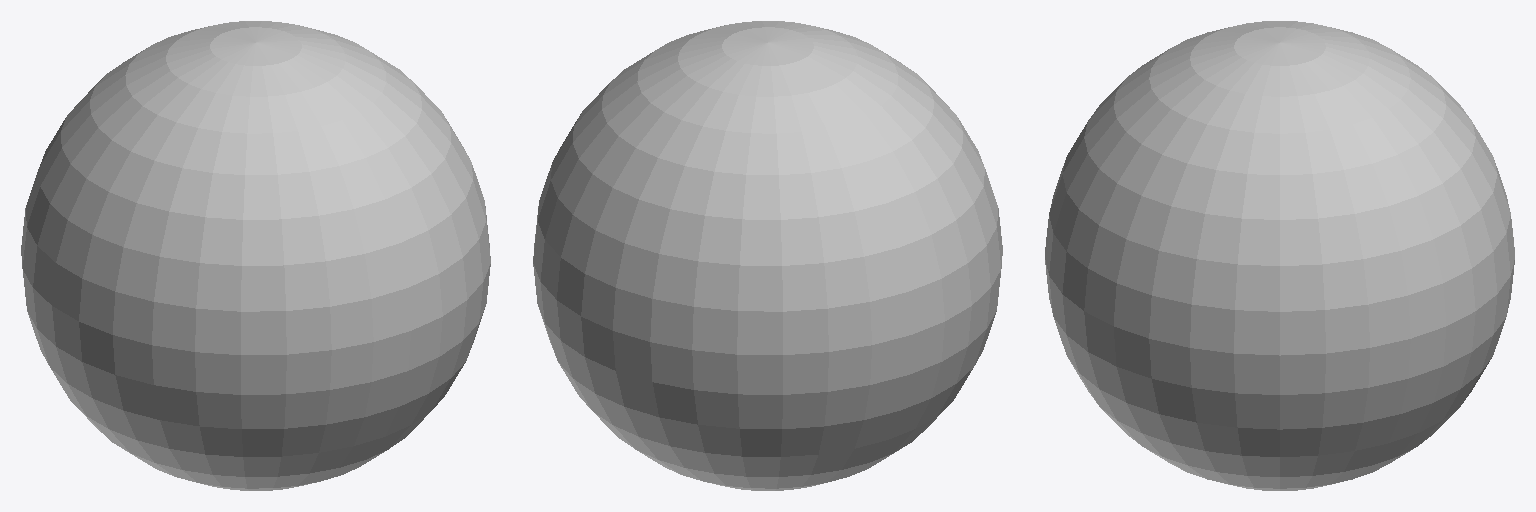
Rendered from sphere-resized.obj.
The picture shows the model from 3 angles: view 1: azimuth 30°, elevation 25°; view 2: azimuth 150°, elevation 25°; view 3: azimuth 270°, elevation 25°; orthographic projection.
Visible parts, largest first — view 1: Sphere_Sphere_Material; view 2: Sphere_Sphere_Material; view 3: Sphere_Sphere_Material.
Part boxes in pixels (x1,y1,x2,y2): Sphere_Sphere_Material: (21,21,490,490); Sphere_Sphere_Material: (533,21,1002,490); Sphere_Sphere_Material: (1045,21,1514,490).
Size of the model in its own units: 9.62 by 9.62 by 9.62.